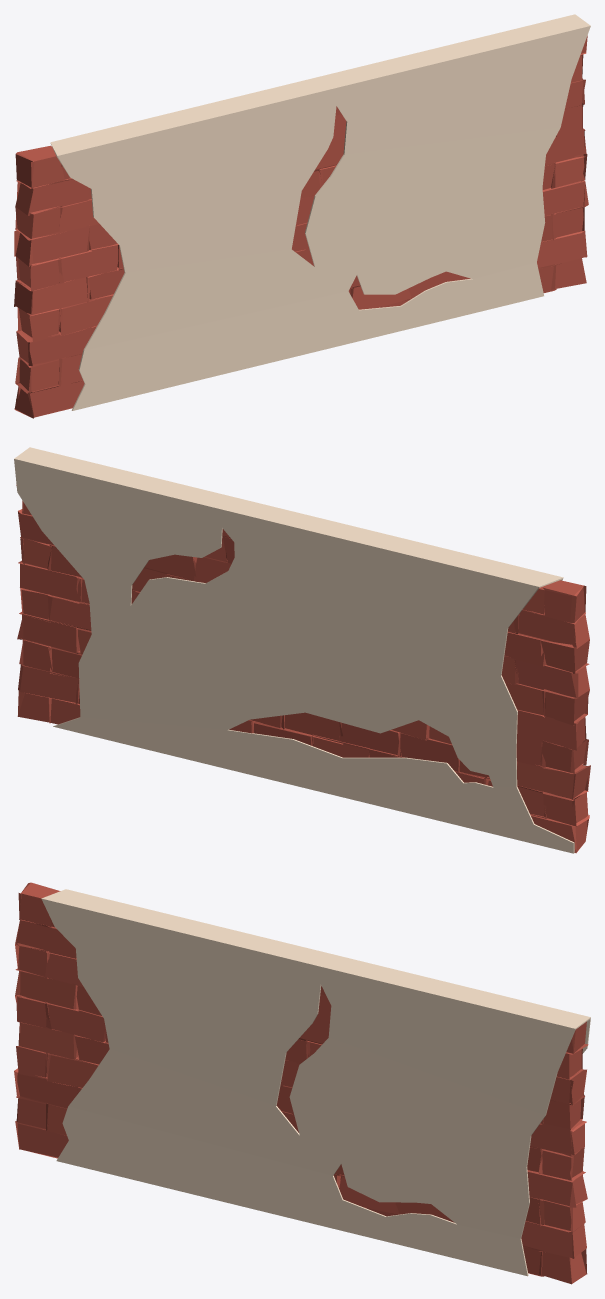
Rendered from cegła zniszczona.fbx.
3 renders of one model, top to bottom at view 1: azimuth 30°, elevation 25°; view 2: azimuth 150°, elevation 25°; view 3: azimuth 330°, elevation 25°, orthographic.
Parts seen in each view (by area): view 1: Sześcian.001, Sześcian; view 2: Sześcian.001, Sześcian; view 3: Sześcian.001, Sześcian.
Part boxes in pixels (bbox=[...]): Sześcian.001: bbox=[16, 14, 590, 410]; Sześcian: bbox=[14, 35, 588, 418]; Sześcian.001: bbox=[14, 447, 574, 853]; Sześcian: bbox=[16, 485, 590, 853]; Sześcian.001: bbox=[41, 889, 590, 1276]; Sześcian: bbox=[14, 882, 588, 1284].
Size of the model in its own units: 2156 by 947 by 113.
